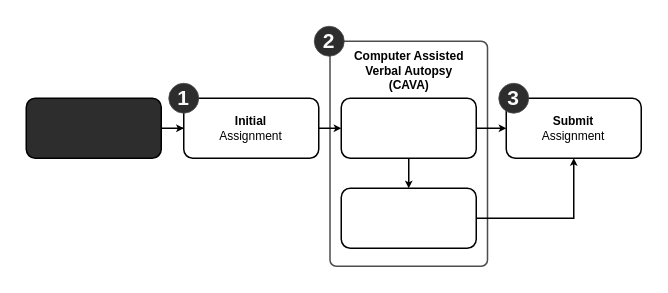
Some shapes in this 668 by 293 pixel diagram are drawn without their labels. Here are the shapes that lost their labels. From the top down, the centre of each, then its label:
(x=93, y=127): Physician
(x=408, y=127): Consider Model Assignments
(x=408, y=217): Revise Assignment (Optional)
